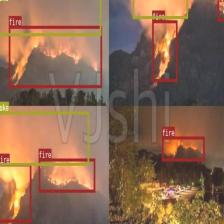fire: (8, 25, 102, 88), (38, 158, 95, 192), (0, 162, 31, 222), (152, 20, 177, 81), (162, 136, 204, 161), (217, 0, 224, 21)
smoke: (0, 111, 89, 165), (0, 0, 101, 35), (133, 0, 187, 18)
